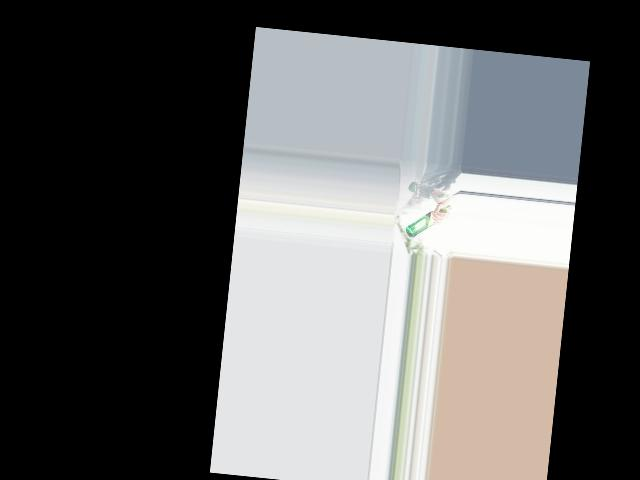beer: (404, 199, 450, 241)
